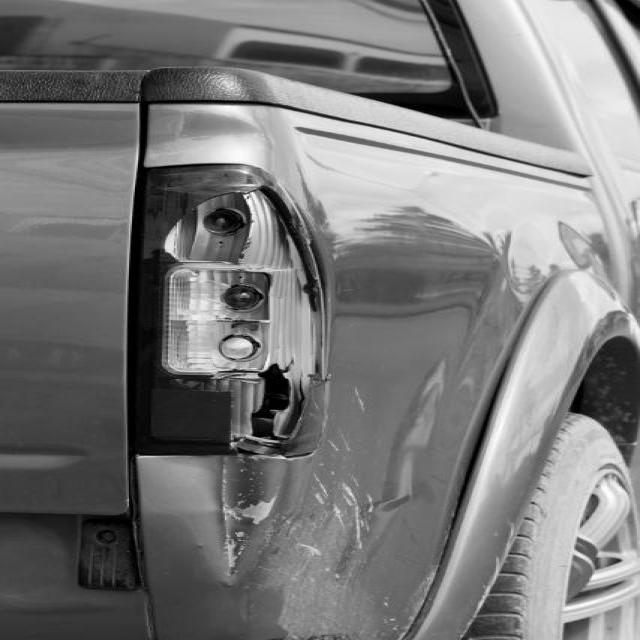Dent: (331, 470, 367, 537), (225, 490, 273, 526), (292, 542, 320, 560)
